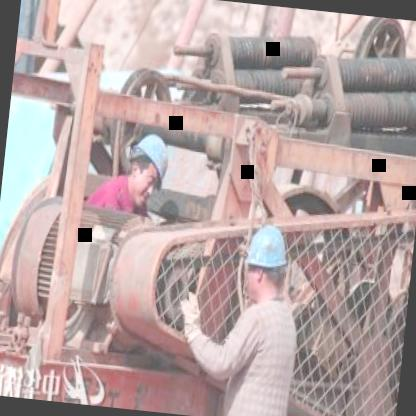helmet: (239, 218, 293, 306), (118, 128, 173, 208)
